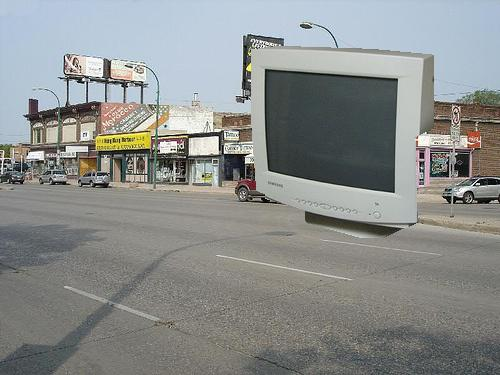tampered: (252, 47, 434, 238)
